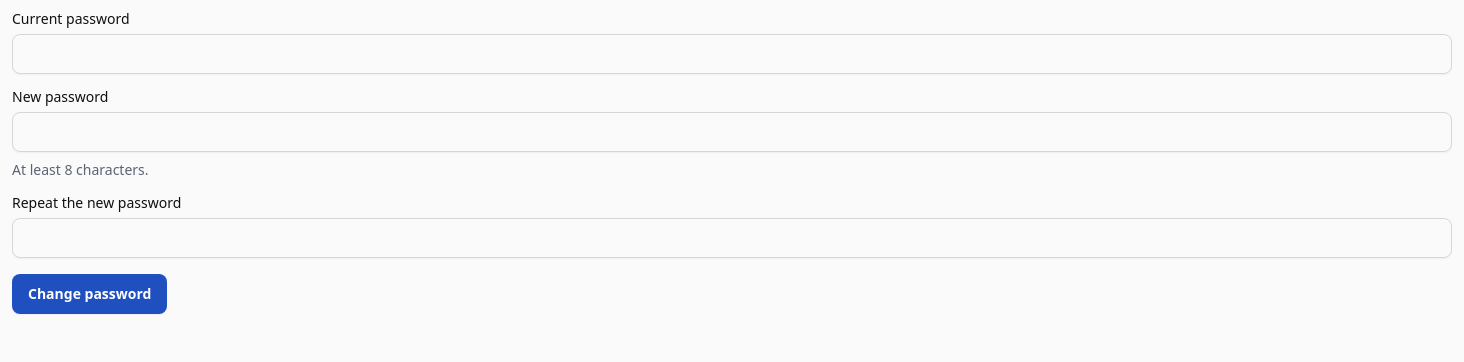
Test case: PasswordForm › marks the current password when the backend says it is wrong
This screenshot has width=1464, height=362.
Type "nope" into the password field labelled "Current password".
click(732, 54); type("nope")  # box [12, 34, 1452, 74]
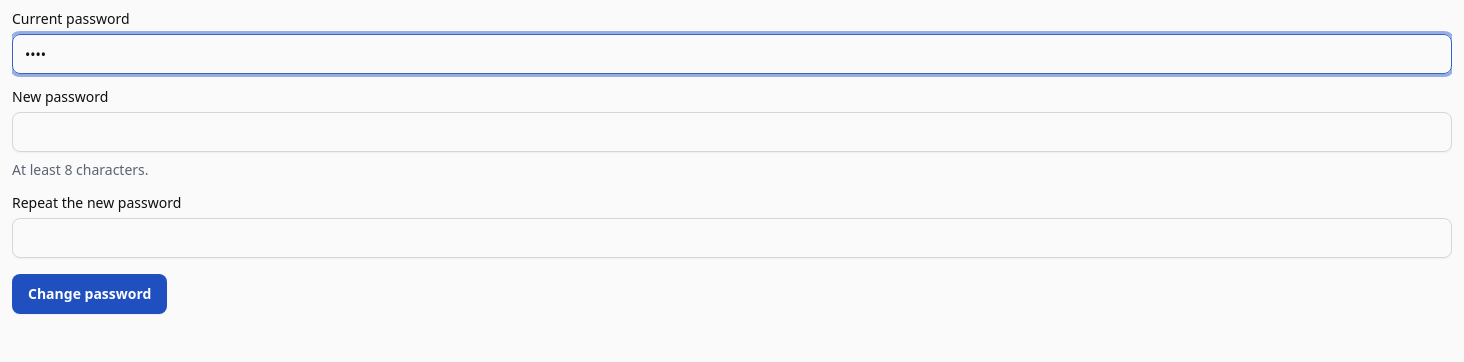
Type "new-password" into the password field labelled "New password".
click(732, 132); type("new-password")  # box [12, 112, 1452, 152]
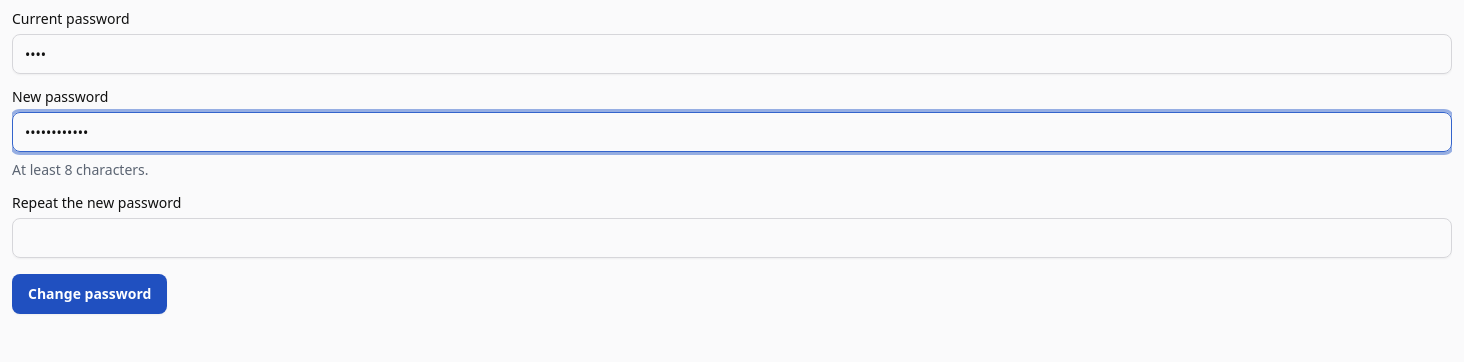
Type "new-password" into the password field labelled "Repeat the new password".
click(732, 238); type("new-password")  # box [12, 218, 1452, 258]
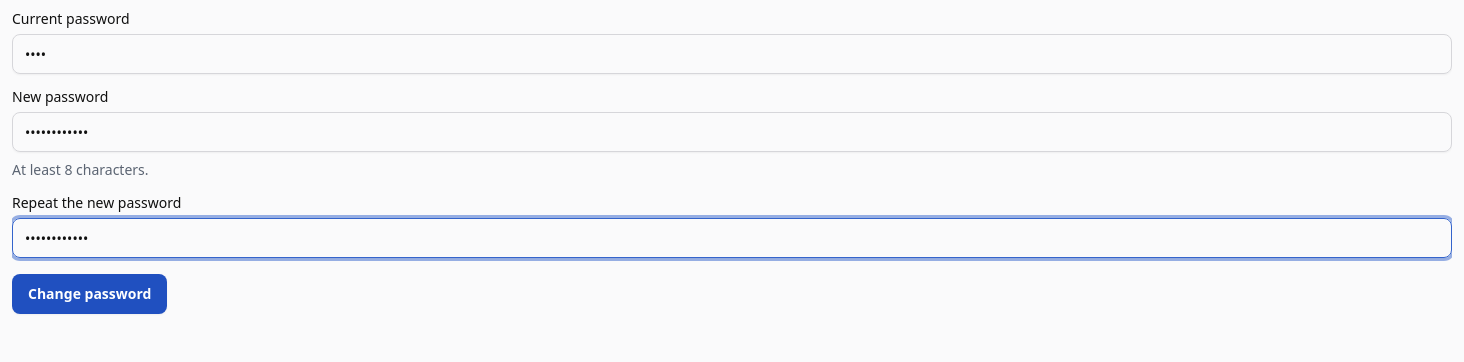
Click the button "Change password".
click(90, 294)  # box [12, 274, 167, 314]
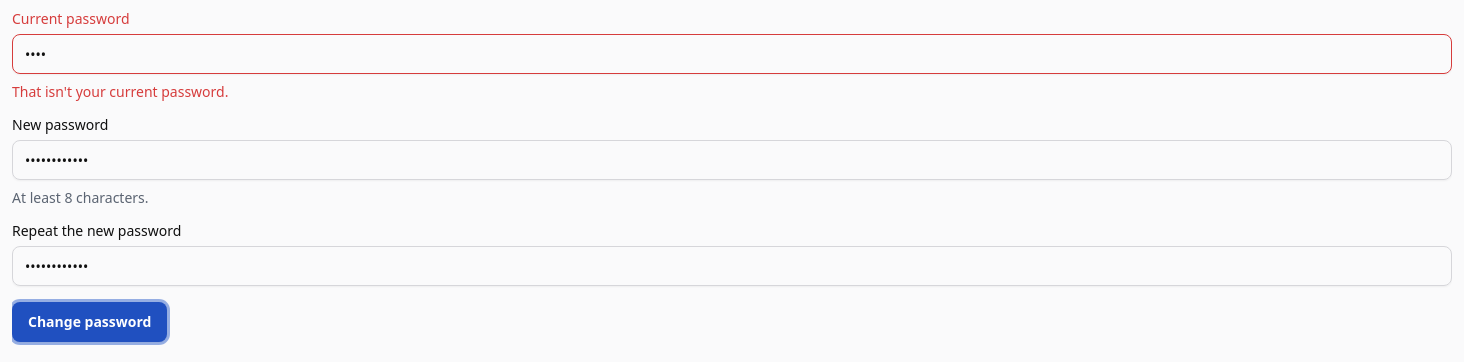
Result: the text "That isn't your current password." is shown at [12, 82, 228, 101]
